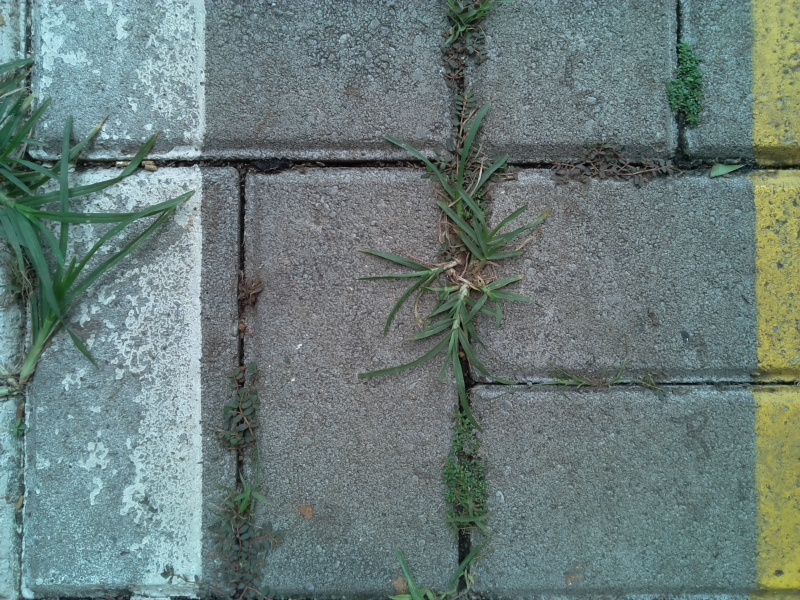Weed: (10, 126, 189, 418), (407, 127, 522, 261), (410, 270, 522, 398), (357, 235, 467, 319), (435, 404, 497, 535), (432, 22, 501, 135), (543, 141, 678, 193), (207, 504, 280, 598), (202, 359, 268, 458), (664, 41, 716, 129), (558, 354, 631, 404), (629, 354, 690, 411), (223, 469, 276, 518), (229, 263, 271, 319), (6, 413, 38, 446)
